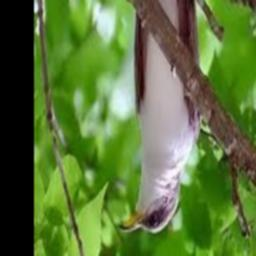Cuckoo: (120, 0, 202, 235)
